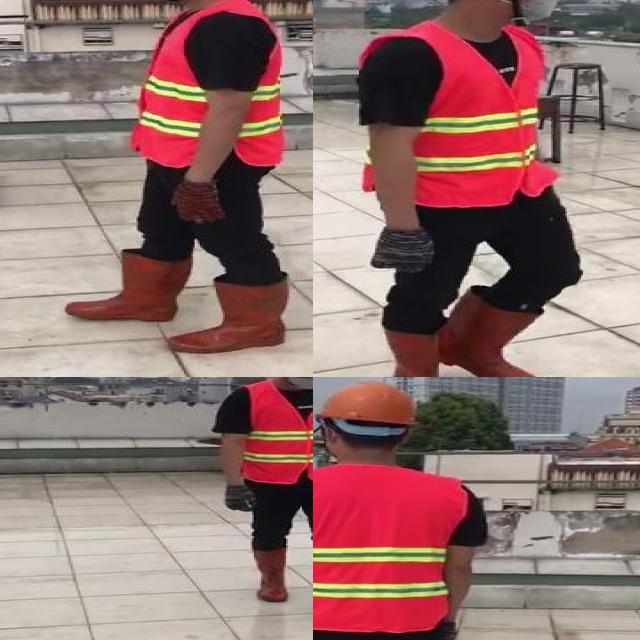boots: (62, 249, 190, 322), (442, 285, 538, 377), (173, 283, 289, 355), (385, 327, 476, 377), (249, 544, 293, 603)
face_mask: (497, 0, 565, 22), (278, 377, 313, 390)
hand_glove: (372, 226, 436, 273), (170, 180, 227, 223), (222, 484, 256, 511)
head_helmet: (315, 377, 421, 429)
person: (339, 0, 595, 377), (57, 0, 299, 359), (313, 380, 489, 640), (209, 377, 313, 625)
vest: (354, 26, 558, 208), (134, 4, 286, 167), (313, 465, 461, 631), (238, 381, 313, 481)
